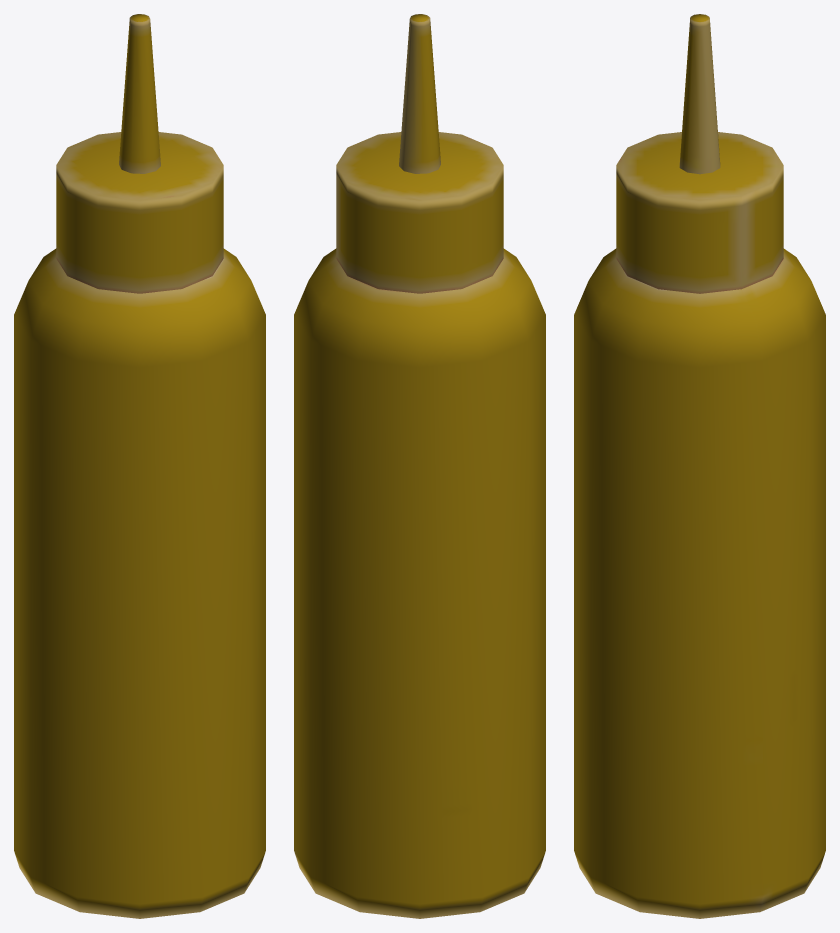
The model's file is pi_bottle01_yellow.gltf.
3 views of the same model, side by side, from view 1: azimuth 30°, elevation 25°; view 2: azimuth 150°, elevation 25°; view 3: azimuth 270°, elevation 25° (orthographic).
Parts seen in each view (by area): view 1: pi_bottle01_yellow_mesh_shape:pi_bottle01_body; view 2: pi_bottle01_yellow_mesh_shape:pi_bottle01_body; view 3: pi_bottle01_yellow_mesh_shape:pi_bottle01_body.
Boxes of the visible parts, x1=… form: pi_bottle01_yellow_mesh_shape:pi_bottle01_body: x1=14, y1=14, x2=265, y2=918; pi_bottle01_yellow_mesh_shape:pi_bottle01_body: x1=294, y1=14, x2=545, y2=918; pi_bottle01_yellow_mesh_shape:pi_bottle01_body: x1=574, y1=14, x2=825, y2=918.
Bounding box in the file's own units: 0.06 × 0.2234 × 0.06.
Materials: 1 (1 with a texture image).
